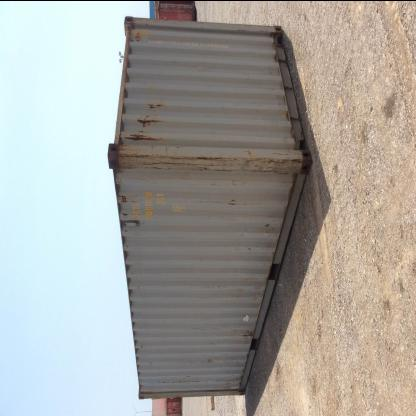Damage: (112, 144, 307, 173), (156, 372, 204, 388), (124, 130, 162, 144), (134, 114, 168, 127), (128, 26, 146, 44), (192, 352, 214, 366), (225, 194, 254, 204), (148, 94, 164, 112), (236, 359, 246, 387), (215, 374, 235, 386), (120, 192, 138, 205), (192, 324, 223, 330), (281, 109, 291, 126), (128, 176, 159, 181), (201, 284, 226, 290), (271, 48, 281, 62), (264, 67, 276, 78), (242, 328, 254, 338), (260, 216, 270, 228), (235, 283, 242, 299), (252, 282, 262, 292), (281, 90, 287, 104), (251, 295, 261, 303), (116, 174, 122, 184), (139, 340, 145, 350), (245, 244, 252, 252), (148, 359, 154, 367), (269, 249, 275, 256), (123, 211, 129, 217), (125, 242, 129, 248), (209, 341, 214, 345), (124, 228, 127, 234), (128, 256, 130, 262), (131, 270, 134, 274)
